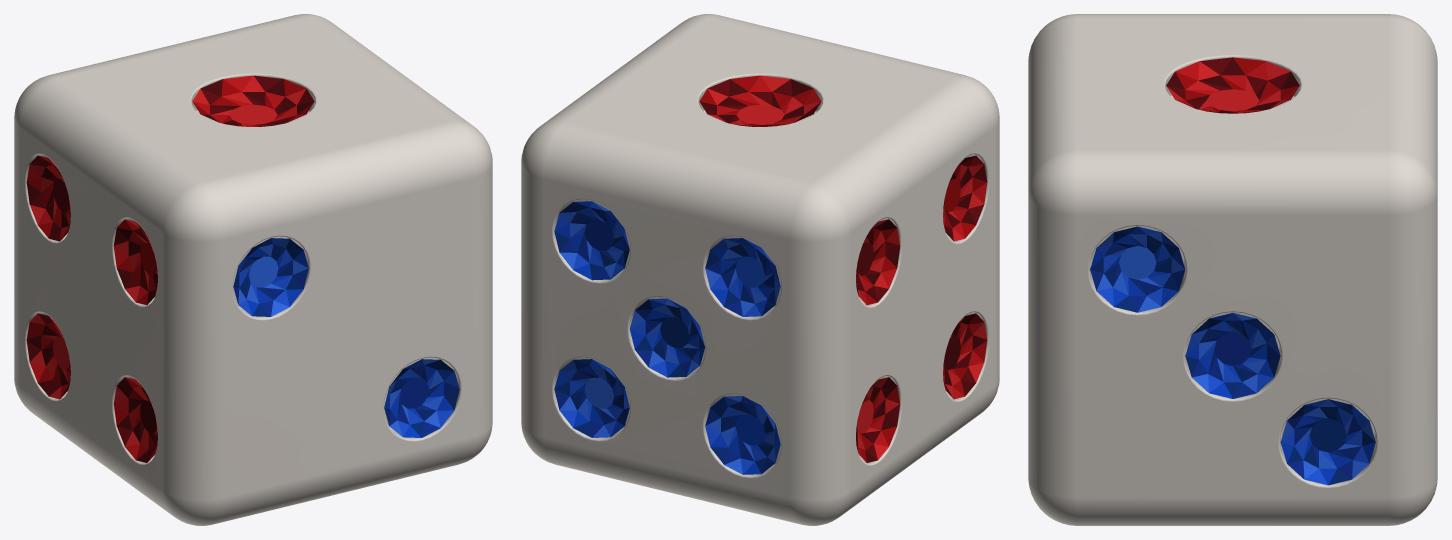
File: ivory-jewel-dice.glb
The picture shows the model from 3 angles, left to right: view 1: azimuth 30°, elevation 25°; view 2: azimuth 150°, elevation 25°; view 3: azimuth 270°, elevation 25°; orthographic projection. The views are drawn at different scales.
Parts seen in each view (by area): view 1: Ivory body - rounded edges and 21 recessed sockets, Face 1 - pip 1, Face 2 - pip 1, Face 2 - pip 2, Face 4 - pip 2, Face 4 - pip 3, Face 4 - pip 4, Face 4 - pip 1; view 2: Ivory body - rounded edges and 21 recessed sockets, Face 1 - pip 1, Face 5 - pip 5, Face 5 - pip 3, Face 5 - pip 2, Face 5 - pip 1, Face 5 - pip 4, Face 4 - pip 1, Face 4 - pip 2, Face 4 - pip 4, Face 4 - pip 3; view 3: Ivory body - rounded edges and 21 recessed sockets, Face 3 - pip 3, Face 3 - pip 1, Face 3 - pip 2, Face 1 - pip 1.
Boxes of the visible parts, box(x1,y1,x2,y2) form: Ivory body - rounded edges and 21 recessed sockets: box(14, 14, 492, 525); Face 1 - pip 1: box(192, 75, 314, 126); Face 2 - pip 1: box(233, 238, 308, 316); Face 2 - pip 2: box(384, 359, 459, 437); Face 4 - pip 2: box(26, 155, 70, 241); Face 4 - pip 3: box(113, 377, 157, 462); Face 4 - pip 4: box(113, 219, 157, 304); Face 4 - pip 1: box(26, 313, 70, 399); Ivory body - rounded edges and 21 recessed sockets: box(521, 14, 999, 525); Face 1 - pip 1: box(699, 75, 821, 126); Face 5 - pip 5: box(705, 238, 780, 316); Face 5 - pip 3: box(630, 298, 705, 377); Face 5 - pip 2: box(554, 201, 629, 280); Face 5 - pip 1: box(554, 359, 629, 437); Face 5 - pip 4: box(705, 396, 780, 474); Face 4 - pip 1: box(856, 377, 900, 462); Face 4 - pip 2: box(856, 219, 900, 304); Face 4 - pip 4: box(943, 155, 987, 241); Face 4 - pip 3: box(943, 313, 987, 399); Ivory body - rounded edges and 21 recessed sockets: box(1028, 14, 1437, 525); Face 3 - pip 3: box(1280, 399, 1375, 485); Face 3 - pip 1: box(1090, 226, 1185, 312); Face 3 - pip 2: box(1185, 313, 1280, 398); Face 1 - pip 1: box(1166, 57, 1299, 113).
Bounding box in the file's own units: 2 × 2 × 2.
